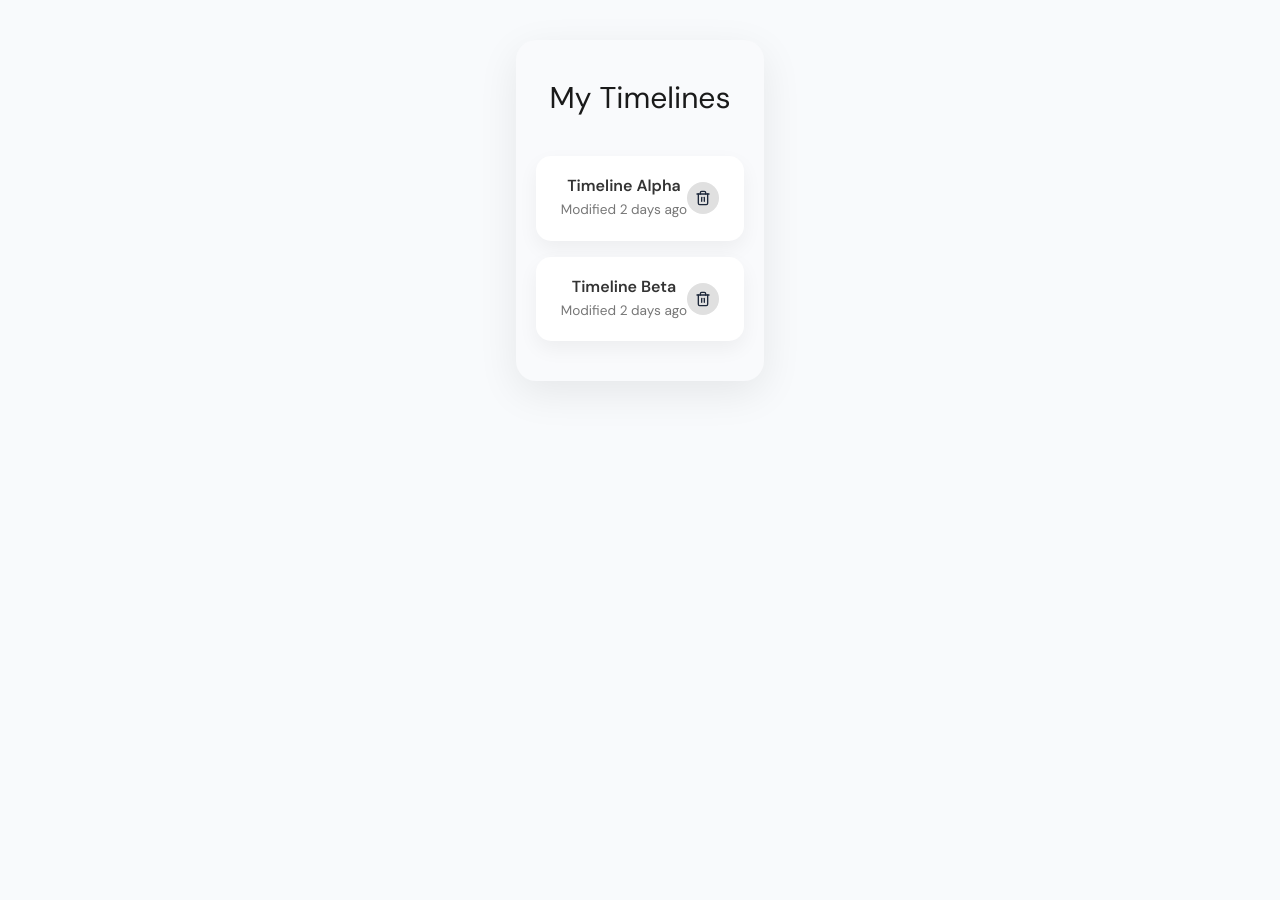
Scenario: UserTimelinesSection › deletes timeline and removes it from the list
Expected: the heading "Timeline Alpha" is shown, [561,176,687,195]
Click the 1st button titled "Delete Timeline".
click(703, 198)  # box [687,182,719,214]
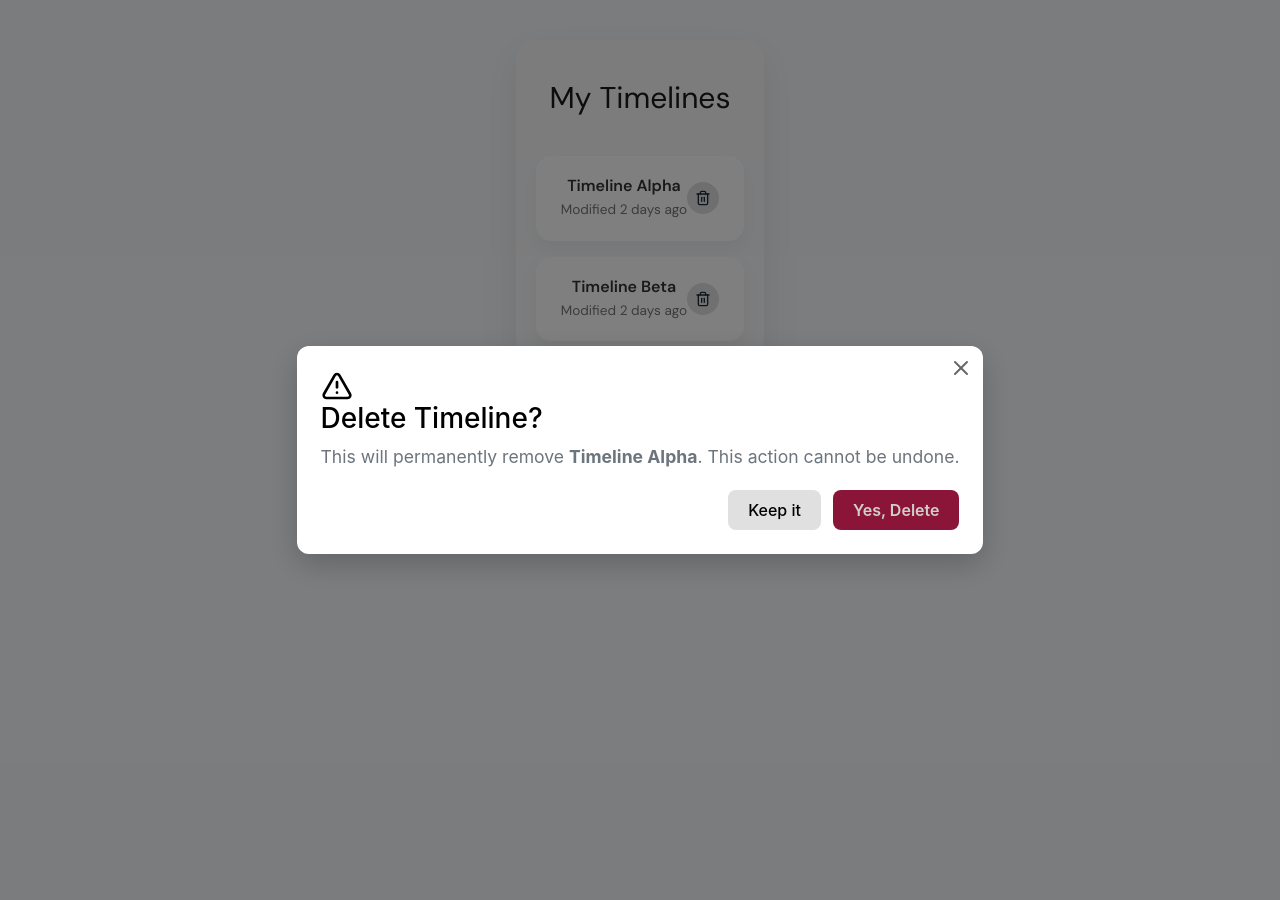
Click the button "Yes, Delete".
click(896, 510)  # box [833,490,960,530]
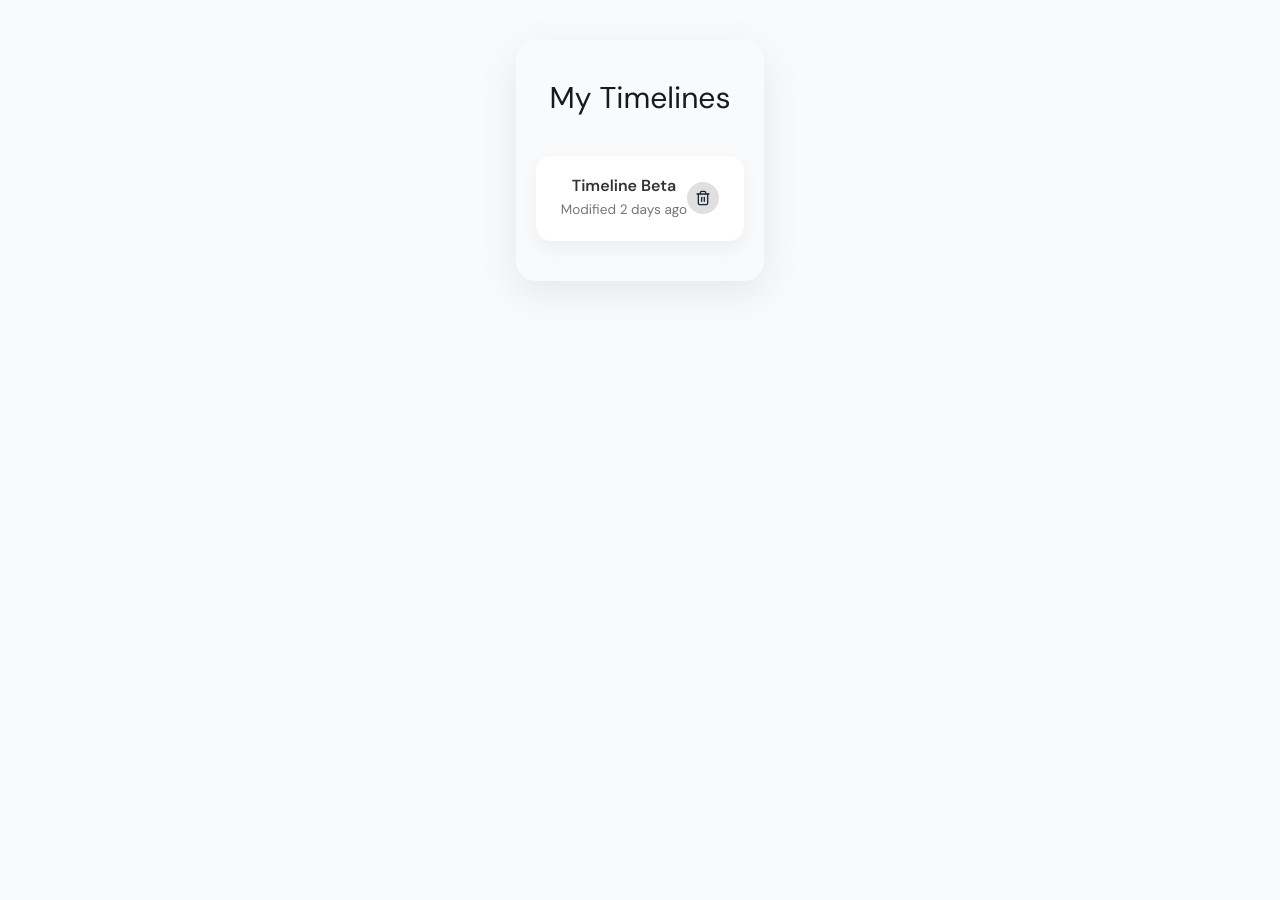
Expected: the heading "Timeline Beta" is shown, [572,176,676,196]
Now the button "Timeline Alpha" is gone
